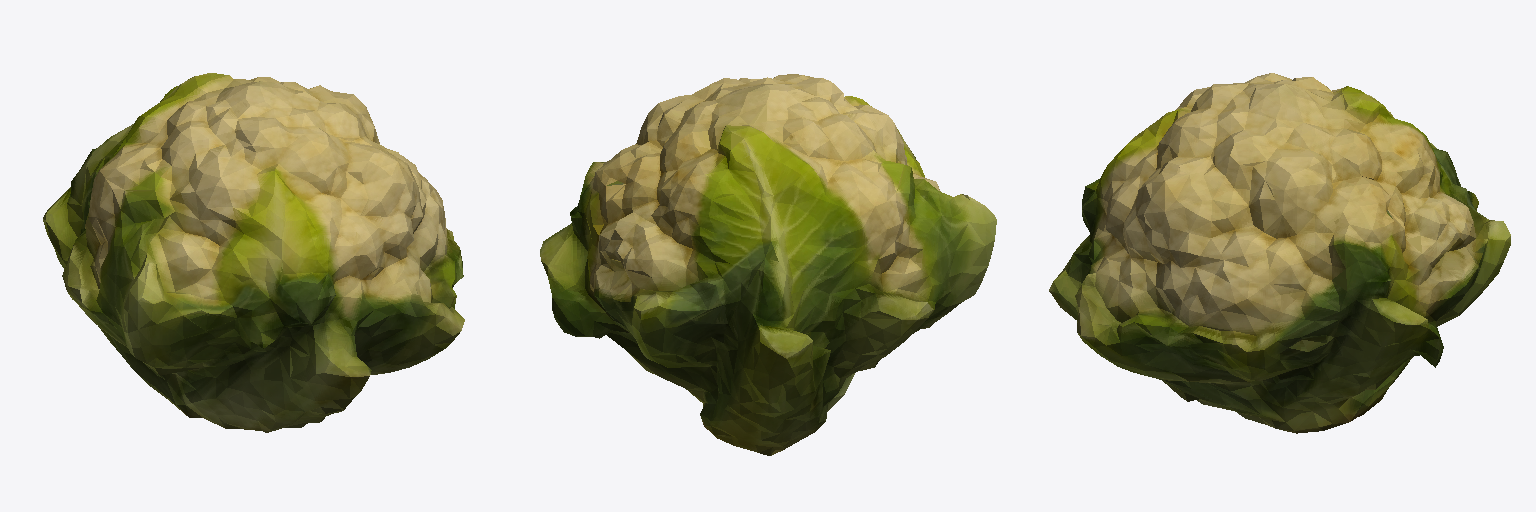
3 renders of one model, left to right at view 1: azimuth 30°, elevation 25°; view 2: azimuth 150°, elevation 25°; view 3: azimuth 270°, elevation 25°, orthographic.
Visible parts, largest first — view 1: cauliflower; view 2: cauliflower; view 3: cauliflower.
Boxes of the visible parts, <box> form: cauliflower: <box>43,73,464,432</box>; cauliflower: <box>540,74,996,455</box>; cauliflower: <box>1049,73,1510,433</box>.
Bounding box in the file's own units: 1 × 0.9154 × 1.13.
Materials: 1 (1 with a texture image).